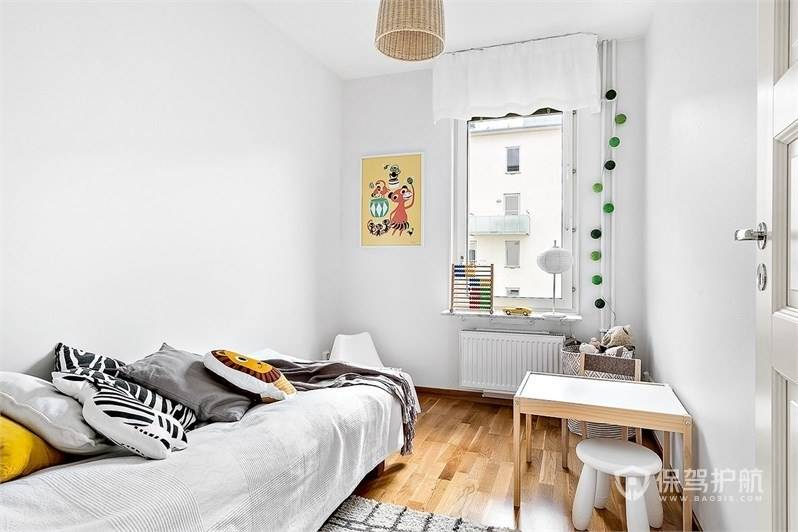床: (14, 374, 420, 530)
枕头: (10, 341, 328, 456)
灯: (371, 4, 448, 64), (535, 238, 572, 323)
